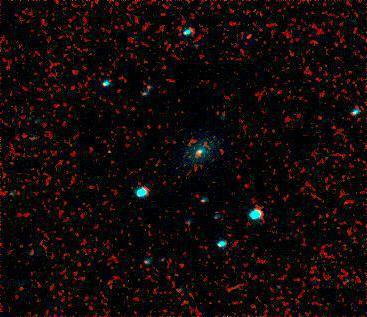star: (234, 22, 264, 52)
